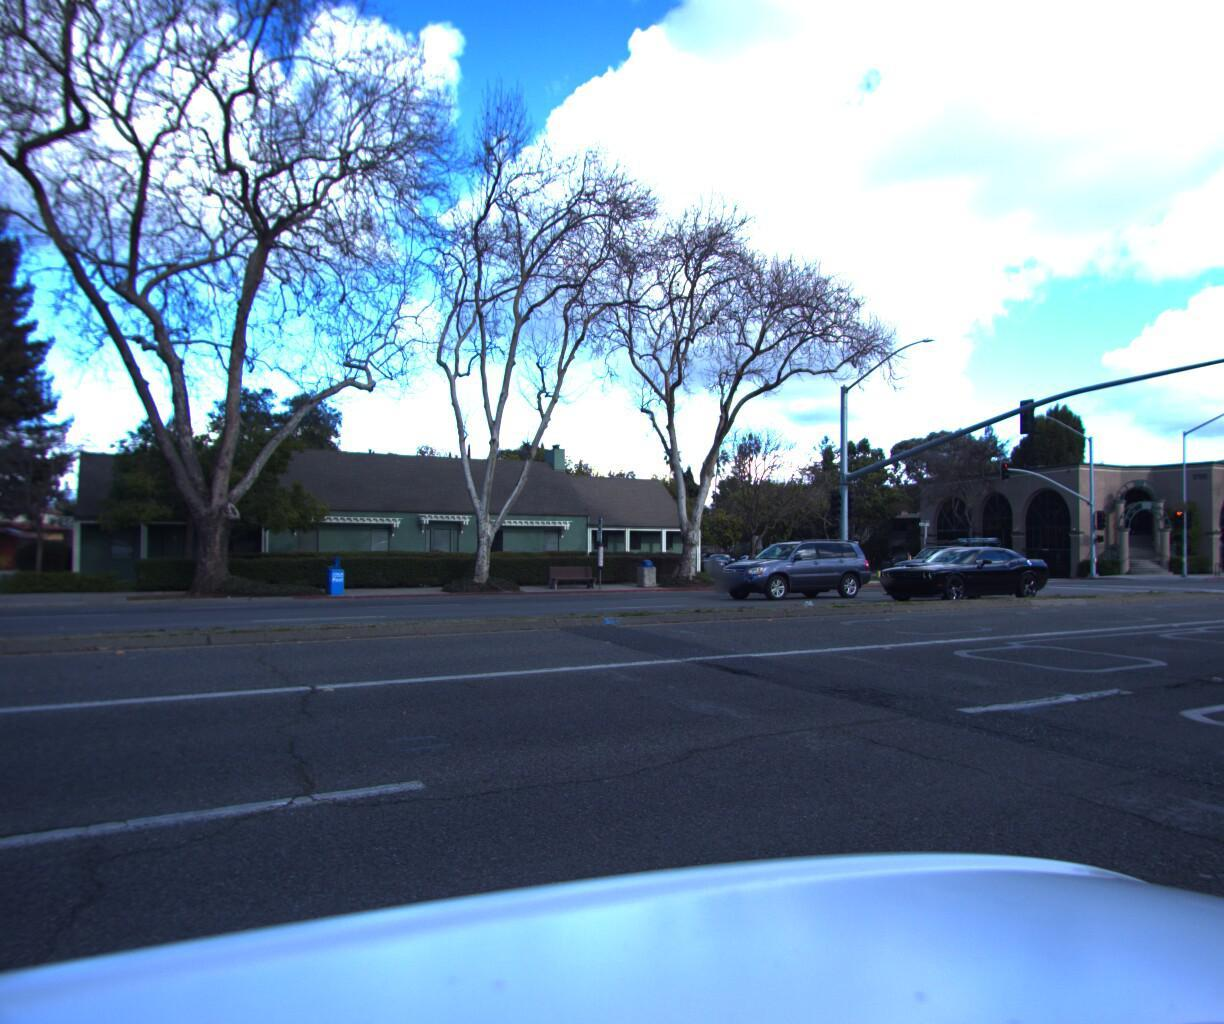car: (875, 528, 1054, 604), (707, 537, 874, 601), (880, 531, 1011, 587)
